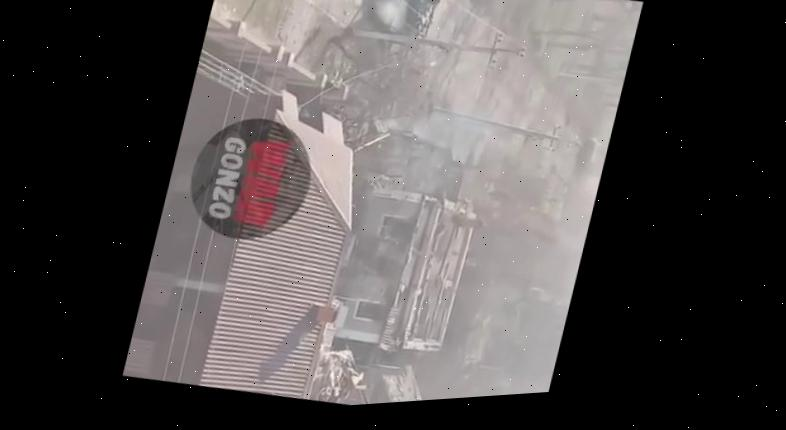tank: (365, 0, 446, 74)
